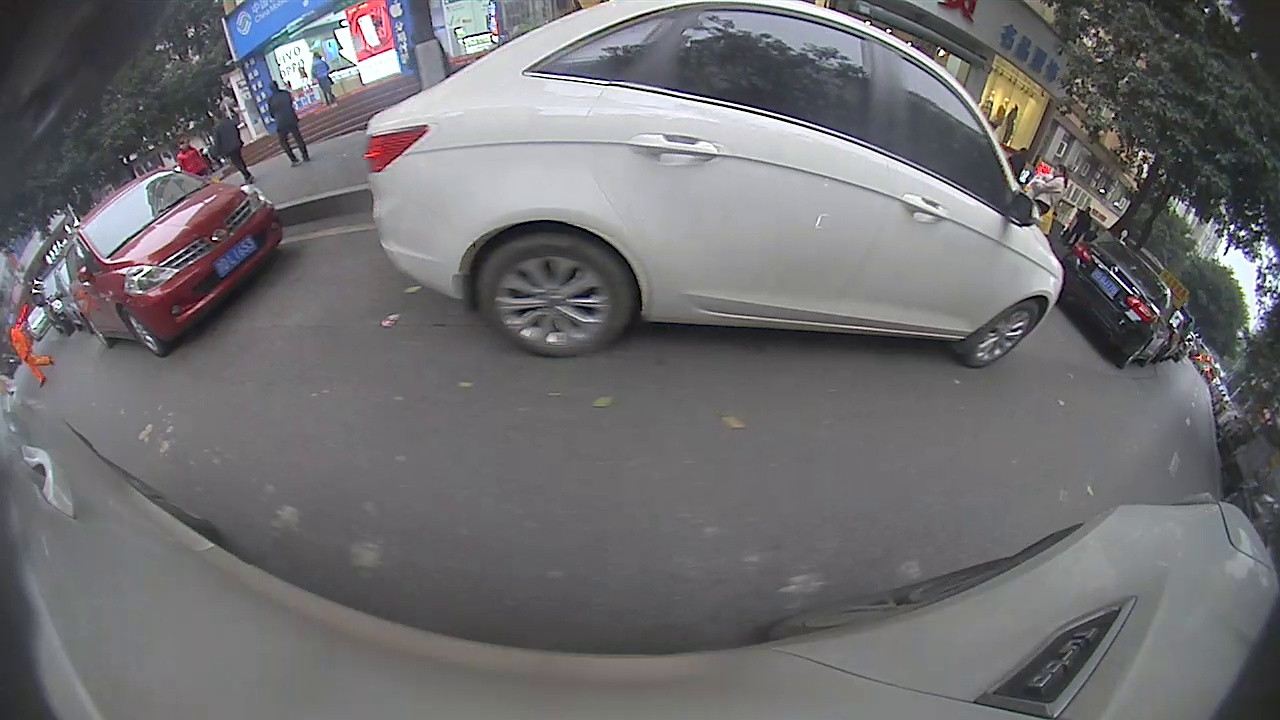car: (362, 1, 1067, 372), (61, 167, 286, 358), (1062, 235, 1178, 370)
front: (956, 301, 1046, 371), (116, 305, 164, 360)
person: (210, 108, 253, 188), (265, 77, 301, 164), (4, 323, 45, 387), (1049, 162, 1069, 223), (177, 137, 197, 180)
rear: (471, 228, 630, 362), (1118, 338, 1150, 371), (83, 315, 114, 349)
